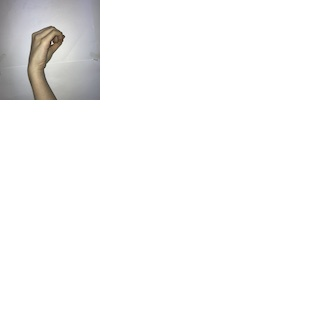rock: (22, 24, 68, 76)
